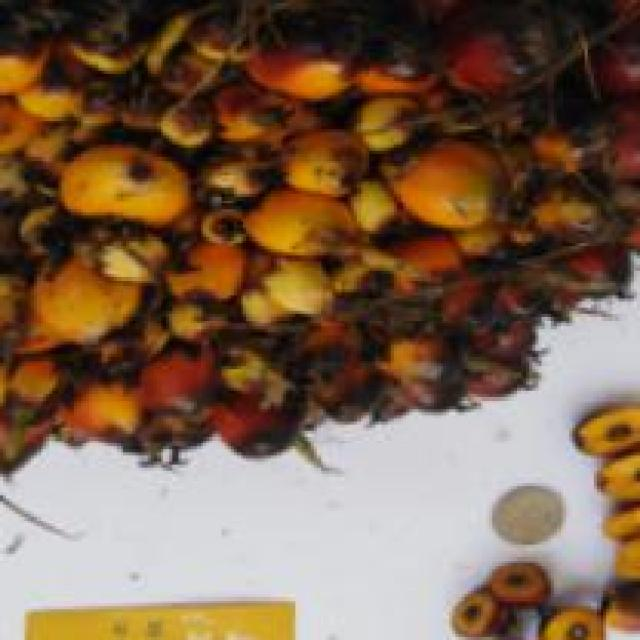underripe: (0, 0, 640, 511)
